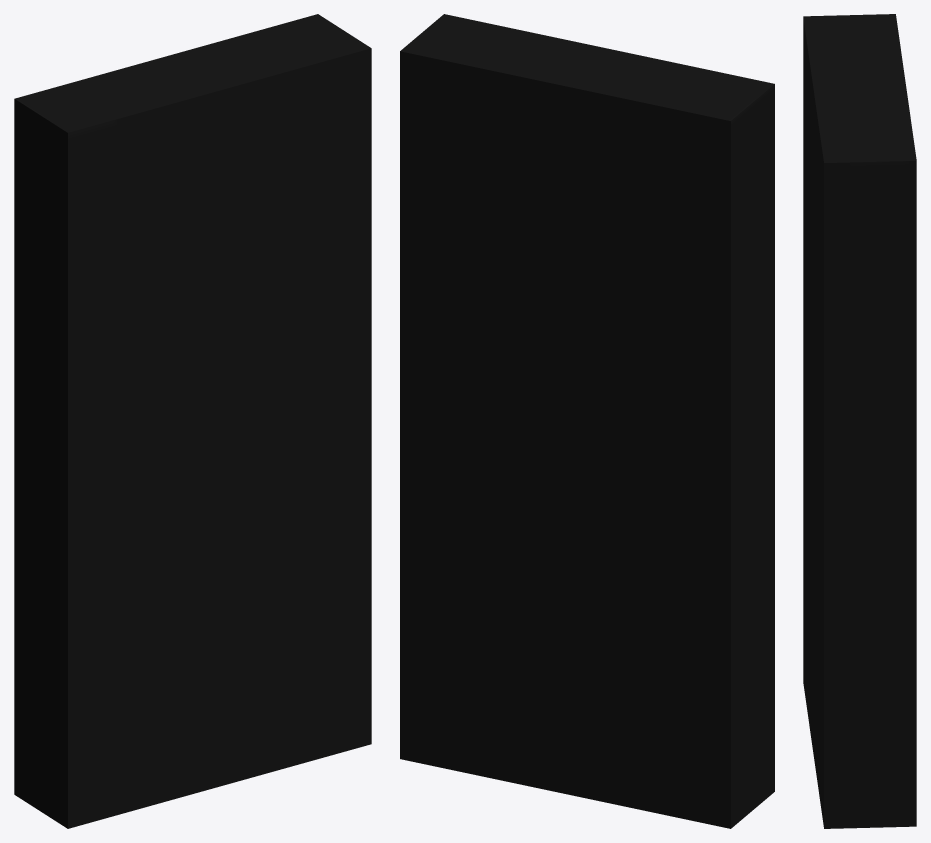
File: seat__seat_rear_brace.glb
The picture shows the model from 3 angles, left to right: view 1: azimuth 30°, elevation 25°; view 2: azimuth 150°, elevation 25°; view 3: azimuth 270°, elevation 25°; orthographic projection. The views are drawn at different scales.
Visible parts, largest first — view 1: world; view 2: world; view 3: world.
Part boxes in pixels (bbox=[...]): world: bbox=[14, 14, 371, 828]; world: bbox=[400, 14, 774, 828]; world: bbox=[803, 14, 916, 828].
Size of the model in its own units: 0.0913 by 0.19 by 0.0294.
Materials: 1 (1 with a texture image).
